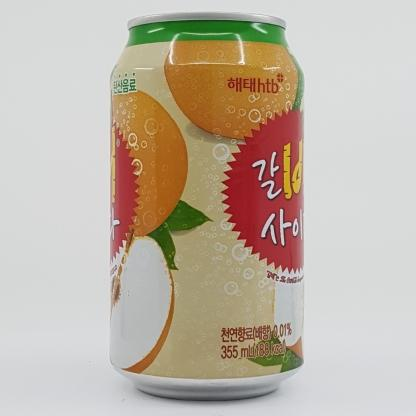-------355ML: (109, 11, 306, 400)
